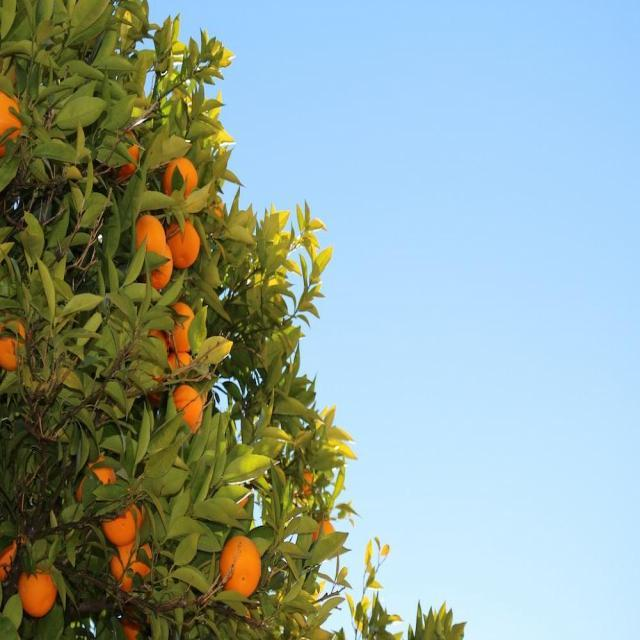Jeruk Sudah Matang: (220, 536, 261, 599), (19, 556, 58, 616), (109, 539, 153, 591), (100, 502, 144, 544), (74, 456, 118, 498), (0, 84, 22, 160), (166, 303, 198, 354), (144, 238, 174, 292), (167, 220, 200, 266), (164, 158, 198, 202), (173, 386, 203, 434), (136, 215, 166, 261), (0, 318, 26, 371), (0, 534, 24, 580), (119, 136, 142, 177), (164, 355, 194, 376), (313, 519, 338, 539)
